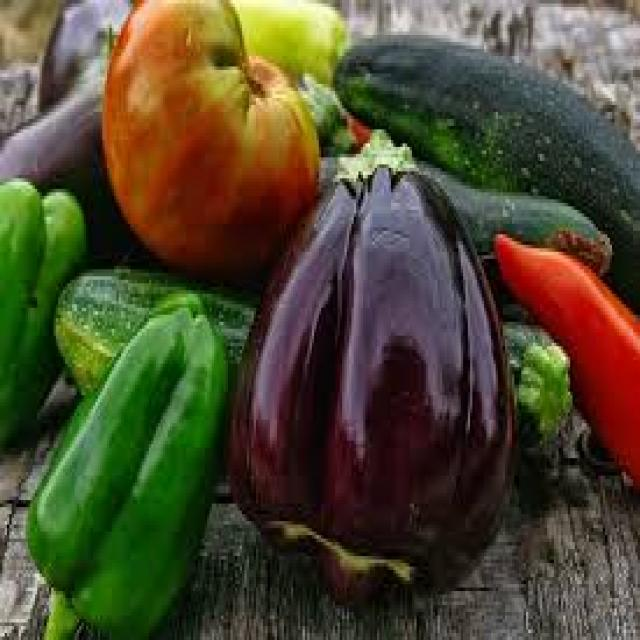organic waste: (223, 122, 514, 605), (49, 262, 568, 455), (332, 24, 638, 301), (23, 284, 230, 636), (296, 70, 610, 273), (100, 0, 319, 280), (491, 227, 638, 493), (0, 56, 135, 266), (0, 175, 84, 448), (37, 0, 147, 105), (230, 0, 344, 84)
